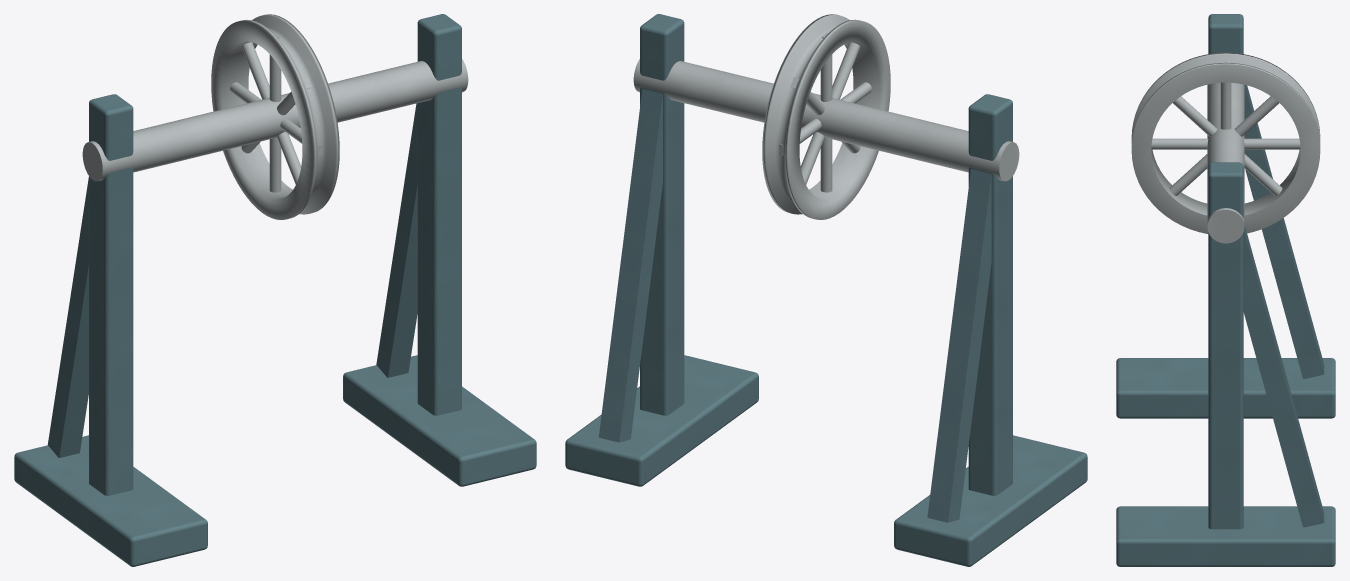
Rendered from gorgehold-survivor-gallery-and-operations-cable-haul-r-8e5a7047__32889.glb.
3 renders of one model, left to right at view 1: azimuth 30°, elevation 25°; view 2: azimuth 150°, elevation 25°; view 3: azimuth 270°, elevation 25°, orthographic. The views are drawn at different scales.
Visible parts, largest first — view 1: cable-haul-return-sheave-tower; view 2: cable-haul-return-sheave-tower; view 3: cable-haul-return-sheave-tower.
Part boxes in pixels (box(x1,y1,x2,y2)): cable-haul-return-sheave-tower: box(14, 14, 536, 566); cable-haul-return-sheave-tower: box(565, 14, 1087, 566); cable-haul-return-sheave-tower: box(1116, 14, 1335, 566).
Bounding box in the file's own units: 1.98 × 2.1 × 1.
2 materials, 2 textured.
